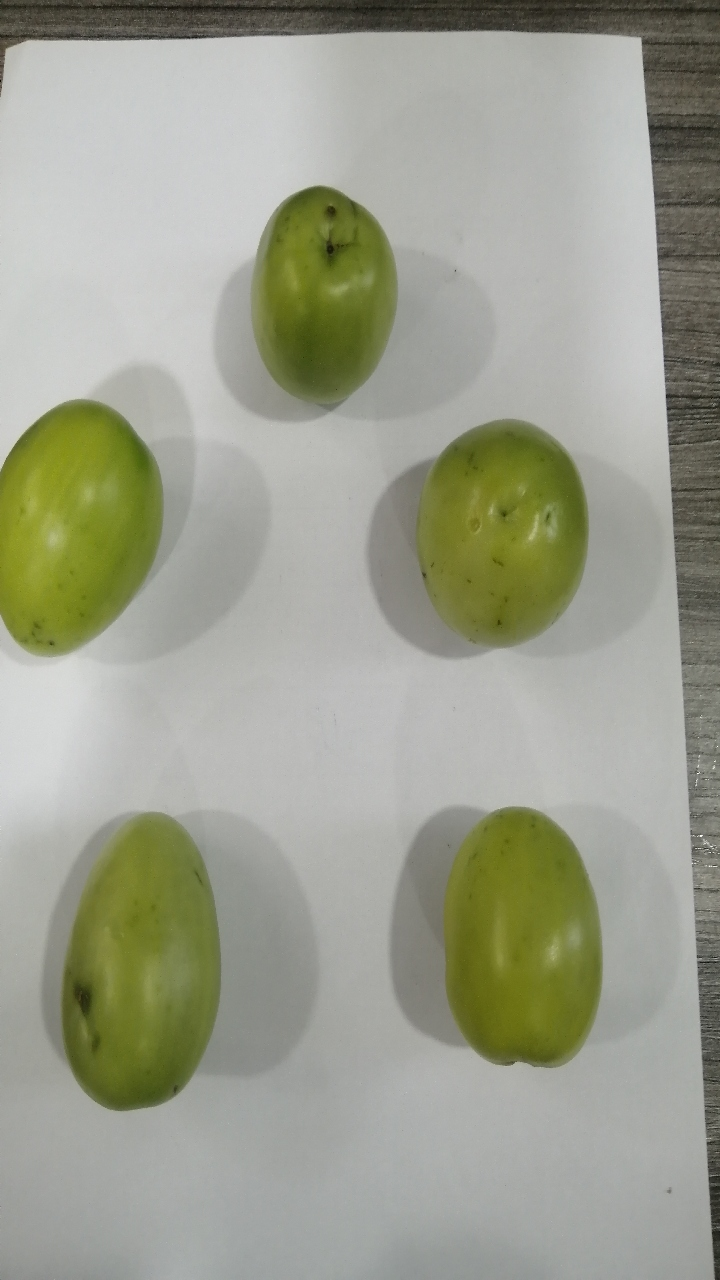tomateVerde: (31, 802, 228, 1128), (426, 797, 626, 1092), (1, 379, 180, 692), (386, 405, 603, 663), (235, 157, 412, 406)
